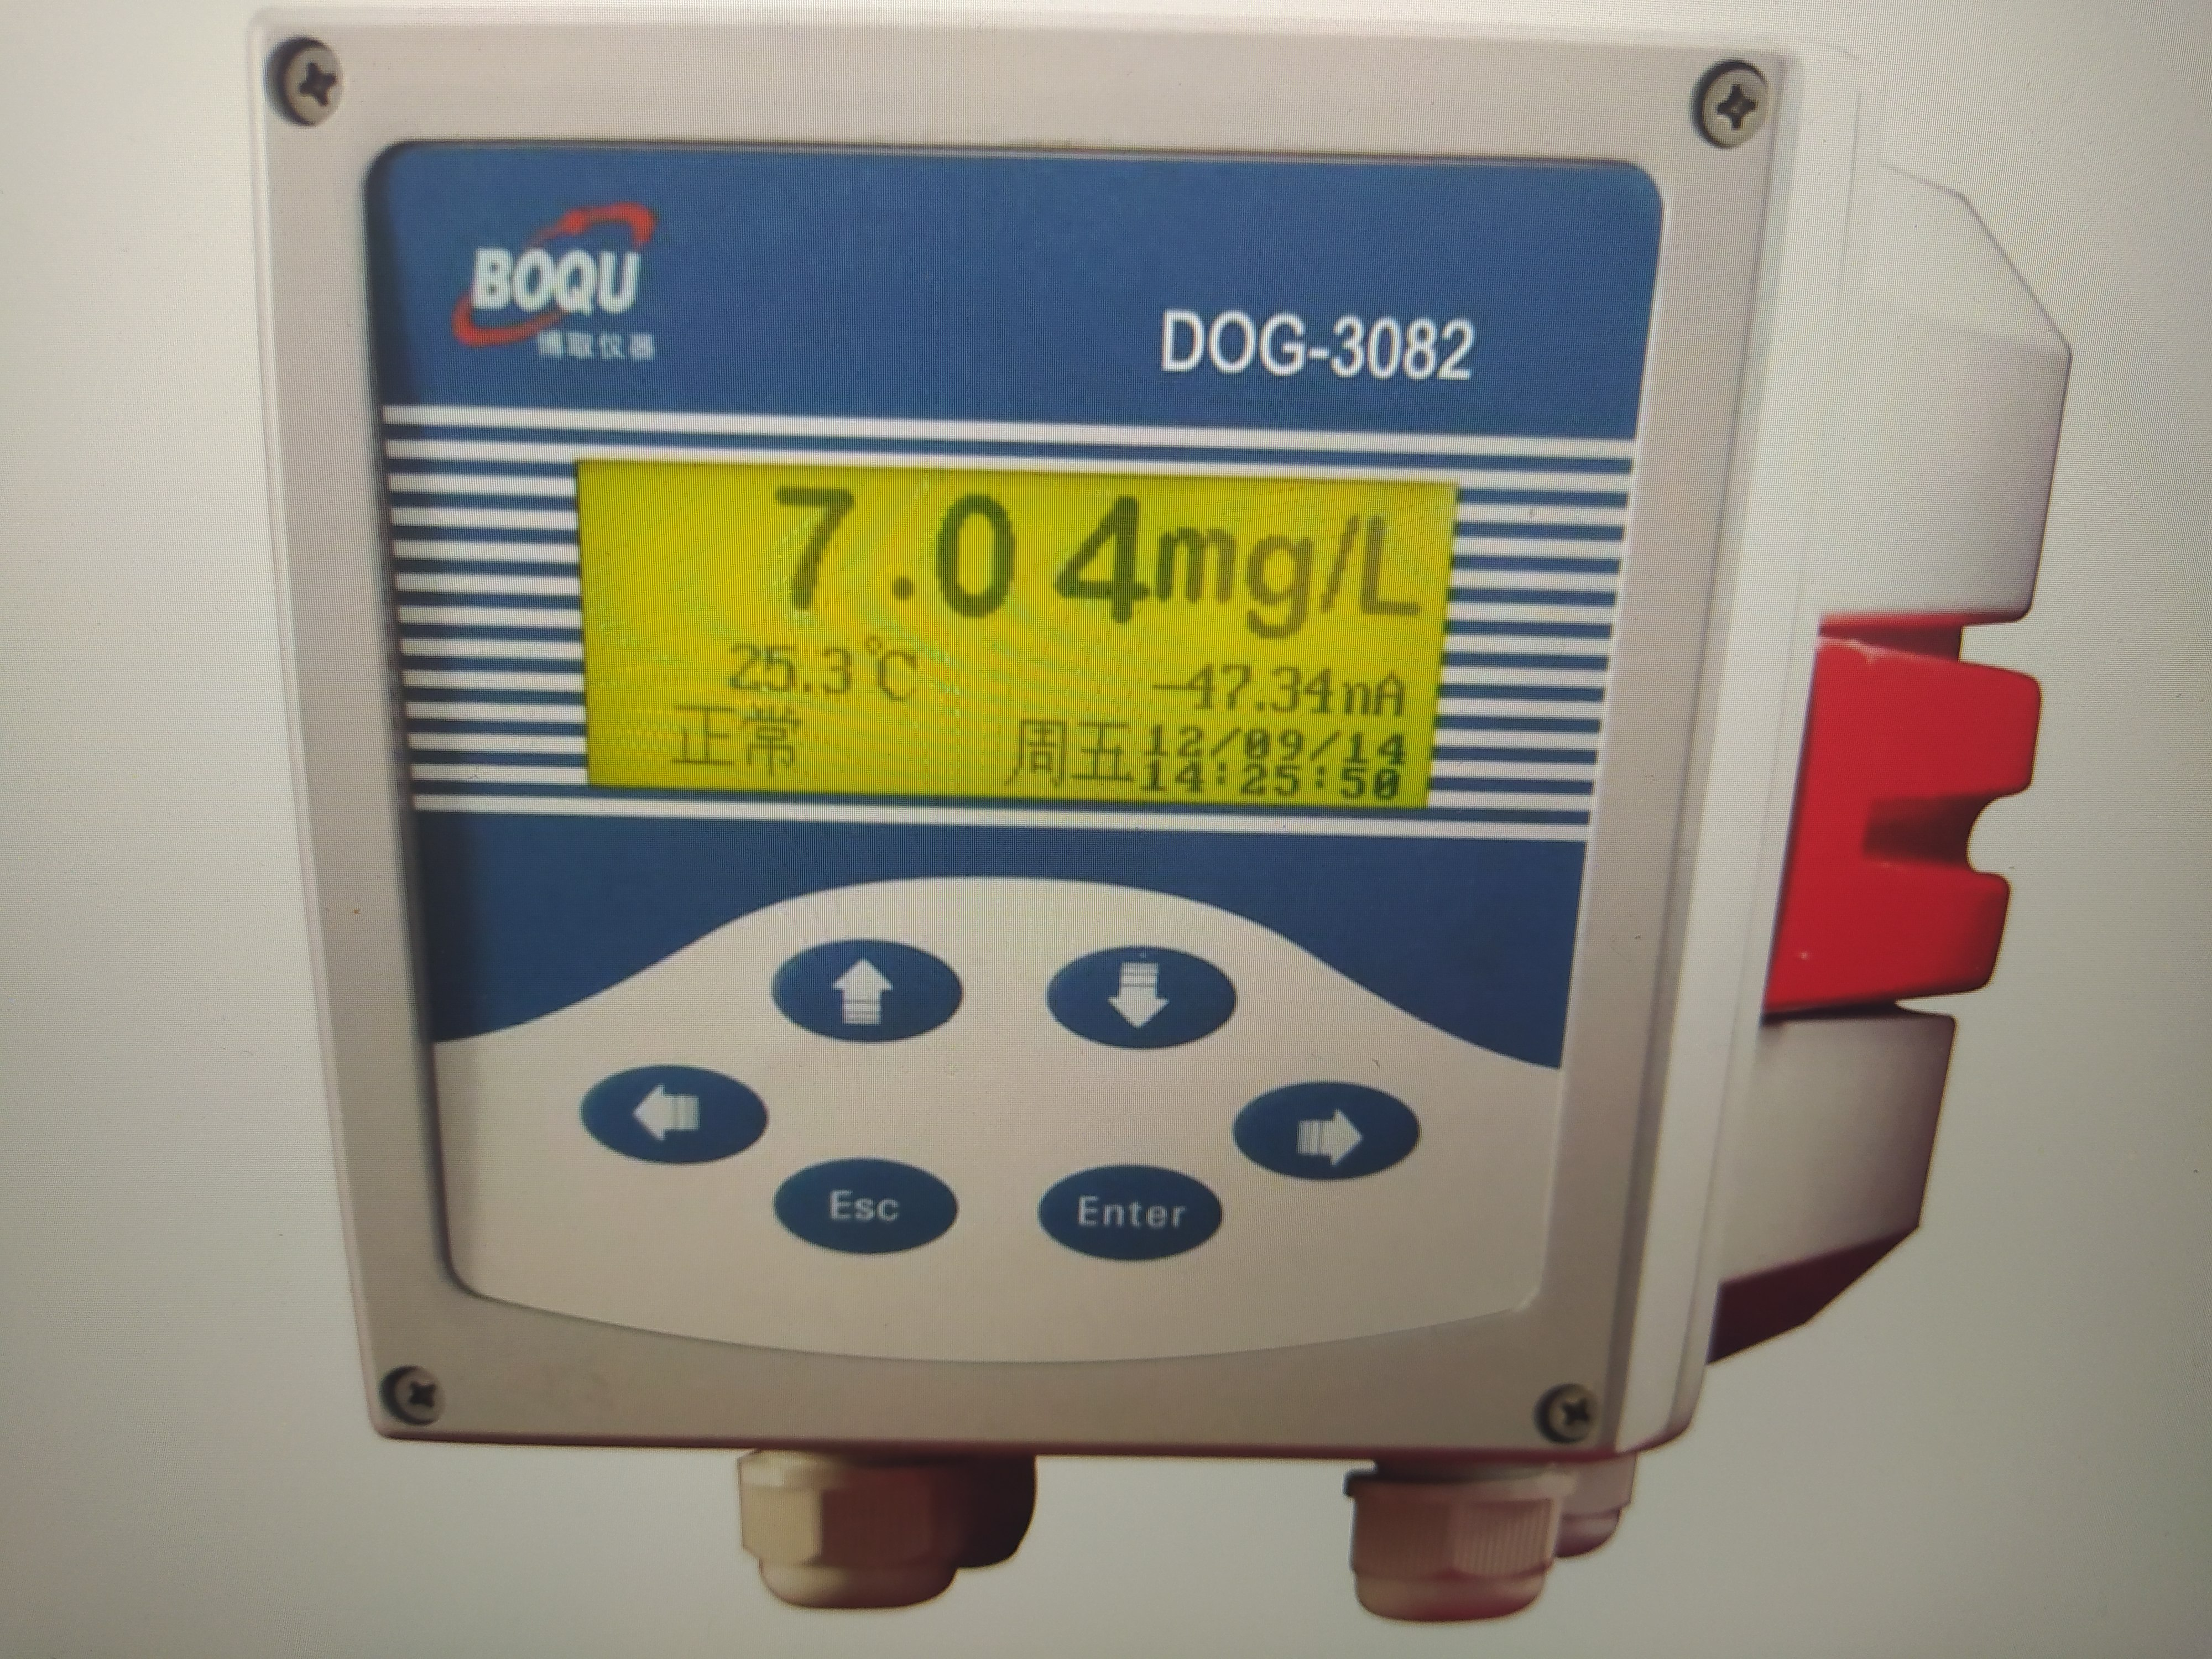.: (871, 479, 920, 620), (801, 634, 820, 706)
0: (928, 479, 1014, 627), (1369, 314, 1400, 387), (1244, 723, 1271, 765), (1374, 767, 1402, 803)
1: (1343, 727, 1374, 765), (1174, 760, 1205, 793), (1146, 723, 1167, 760), (1146, 762, 1169, 789)
2: (1440, 315, 1480, 389), (723, 636, 759, 701), (1174, 723, 1205, 762), (1242, 762, 1270, 800)
3: (817, 634, 859, 709), (1334, 314, 1367, 383), (1271, 662, 1299, 721)
4: (1054, 483, 1157, 631), (1308, 662, 1334, 718), (1372, 725, 1406, 767), (1191, 660, 1216, 711)
5: (759, 634, 799, 704), (1275, 763, 1305, 802), (1338, 765, 1367, 803)
7: (761, 477, 859, 617), (1221, 660, 1252, 714)
8: (1402, 314, 1433, 387)
9: (1277, 725, 1305, 763)
